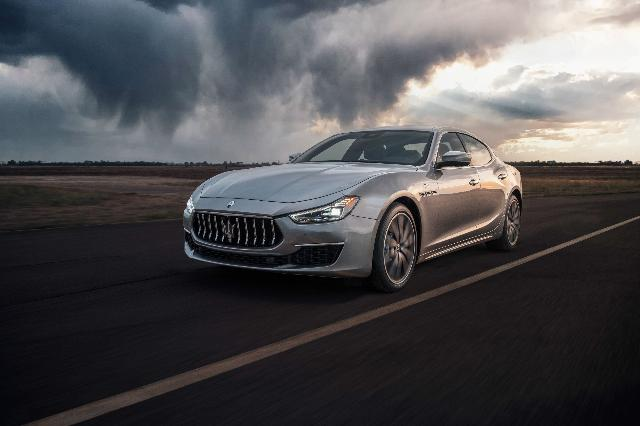maserati: (183, 129, 524, 291)
